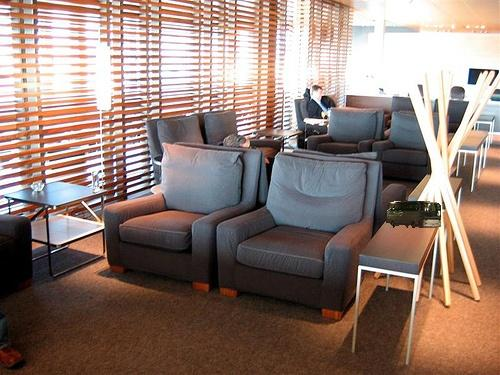tampered: (387, 201, 441, 228)
